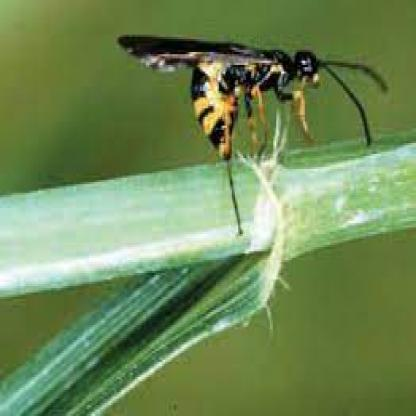sawfly: (112, 29, 393, 240)
